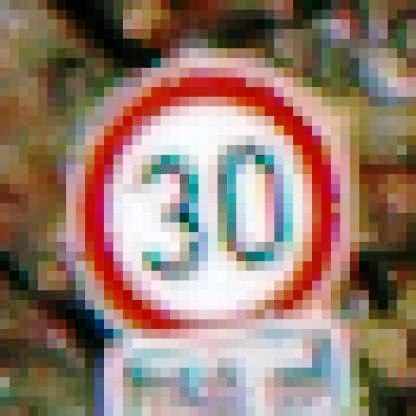Speed Limit -30-: (63, 54, 358, 346)
